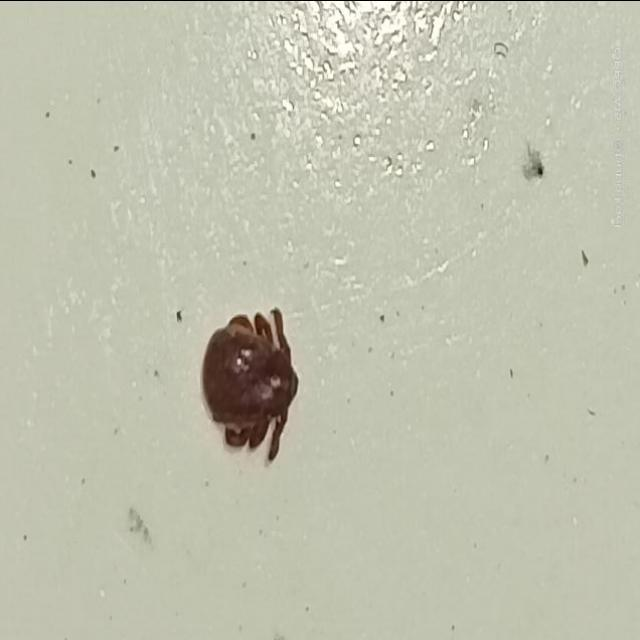Rhipicephalus Sanguineus-M: (201, 306, 302, 463)
